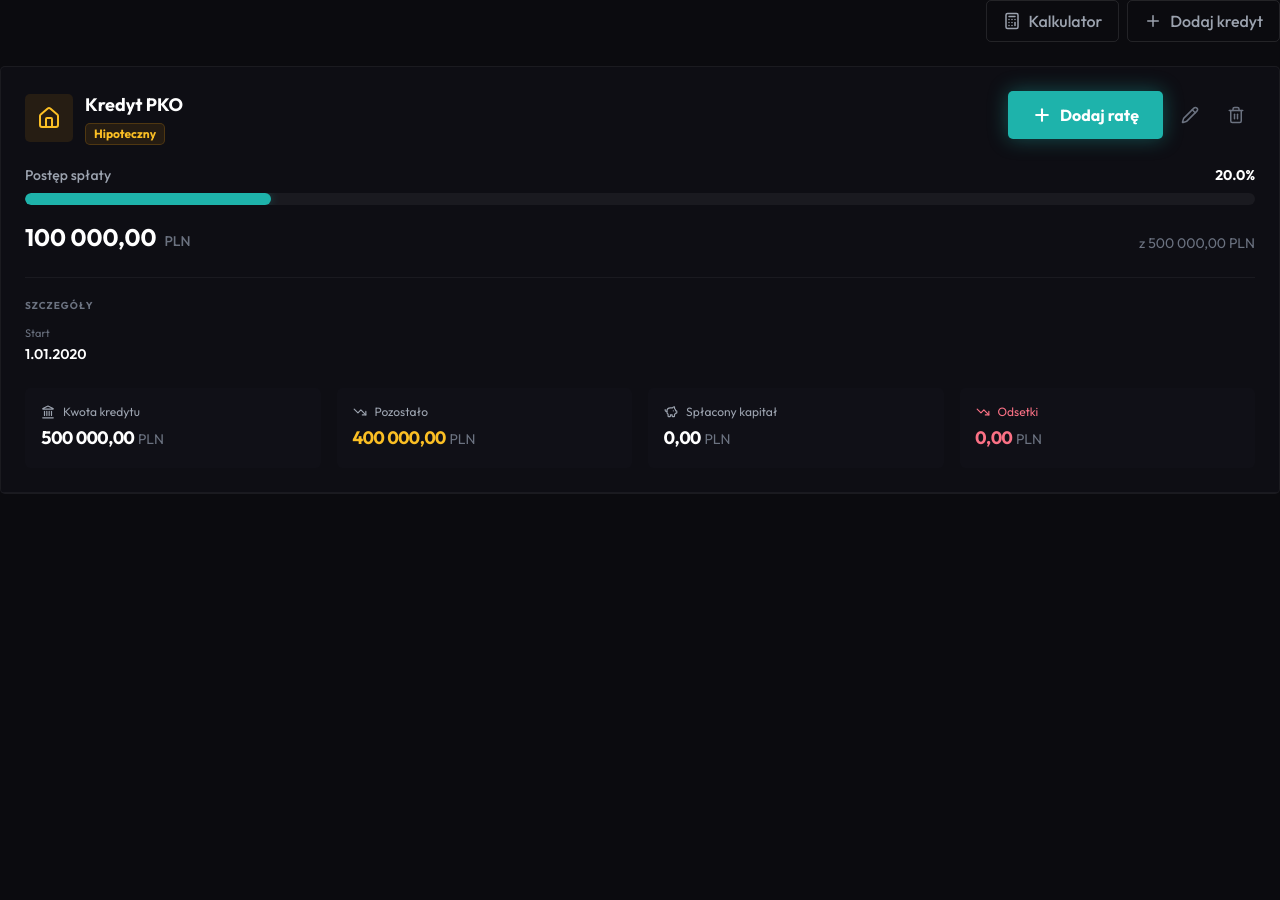
Test: Mortgage — handleAddPayment (walidacja B7) › kwoty niedodatnie → toast, brak POST
The width and height of the screenshot is (1280, 900).
Step 1. Click the button "Dodaj ratę" → (1086, 115), box [1008,91,1163,139]
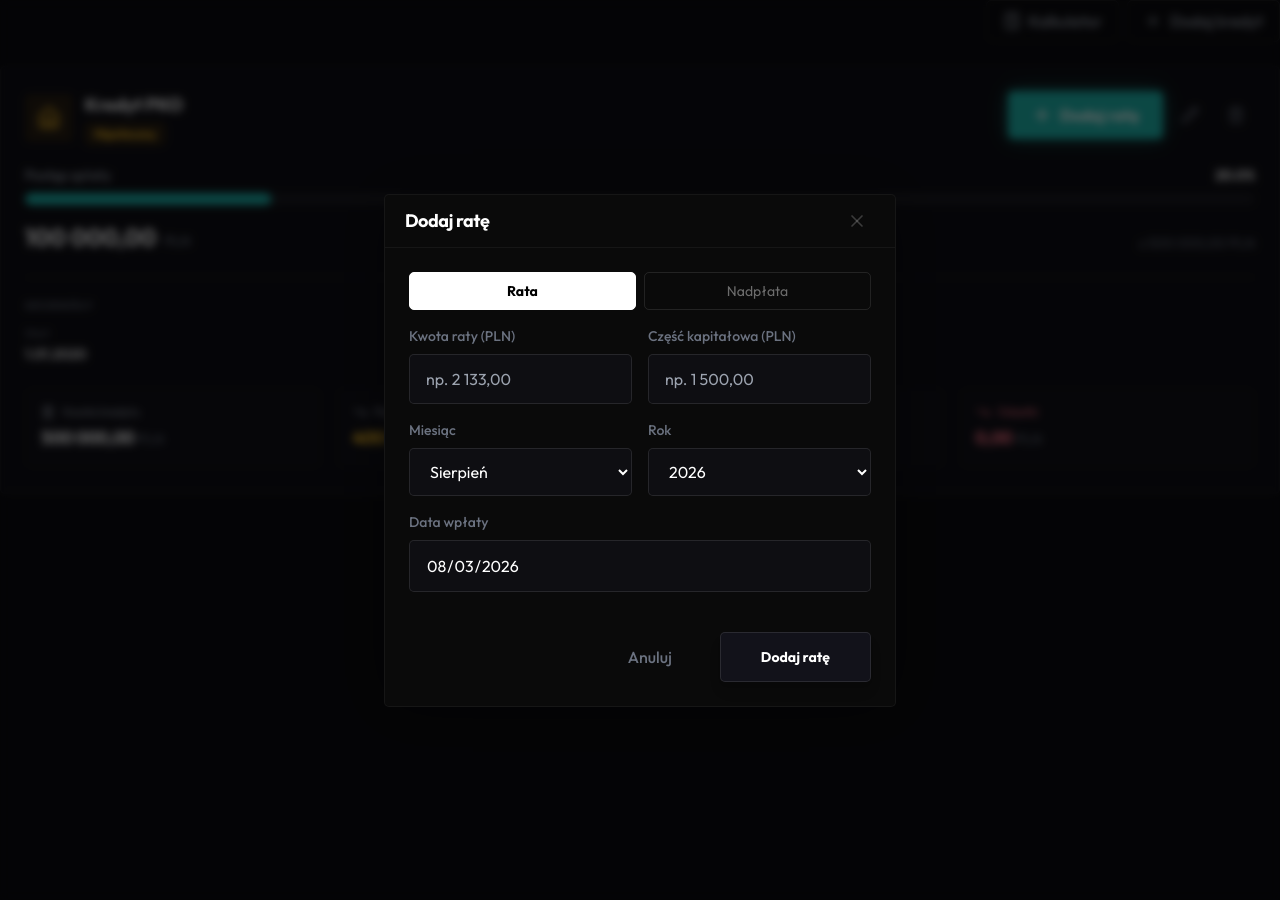
Result: the number field with placeholder "np. 2 133,00" is shown
Step 2. Type "0" into the number field with placeholder "np. 2 133,00" → (520, 378), box [409,354,632,404]
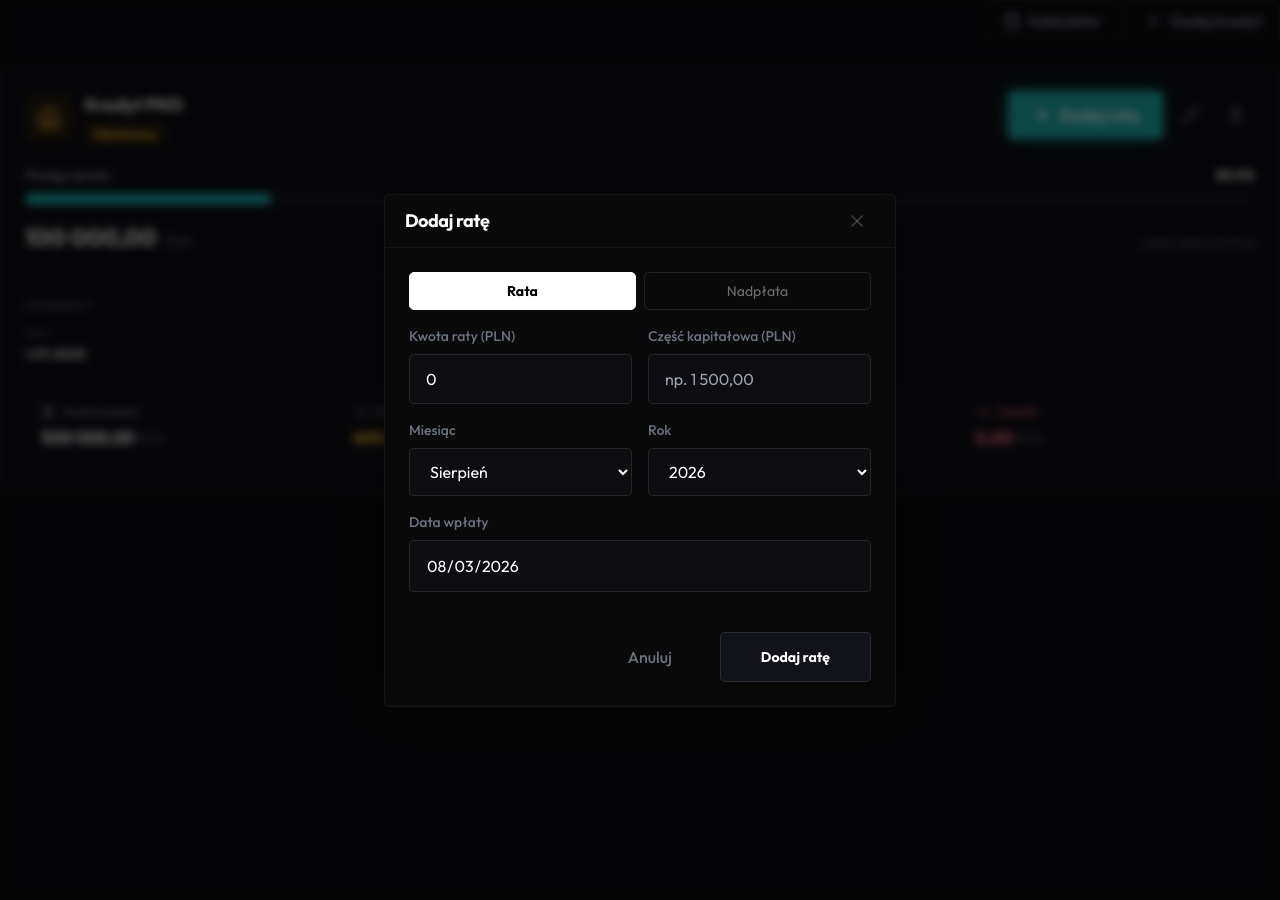
Step 3. Type "0" into the number field with placeholder "np. 1 500,00" → (760, 378), box [648,354,871,404]
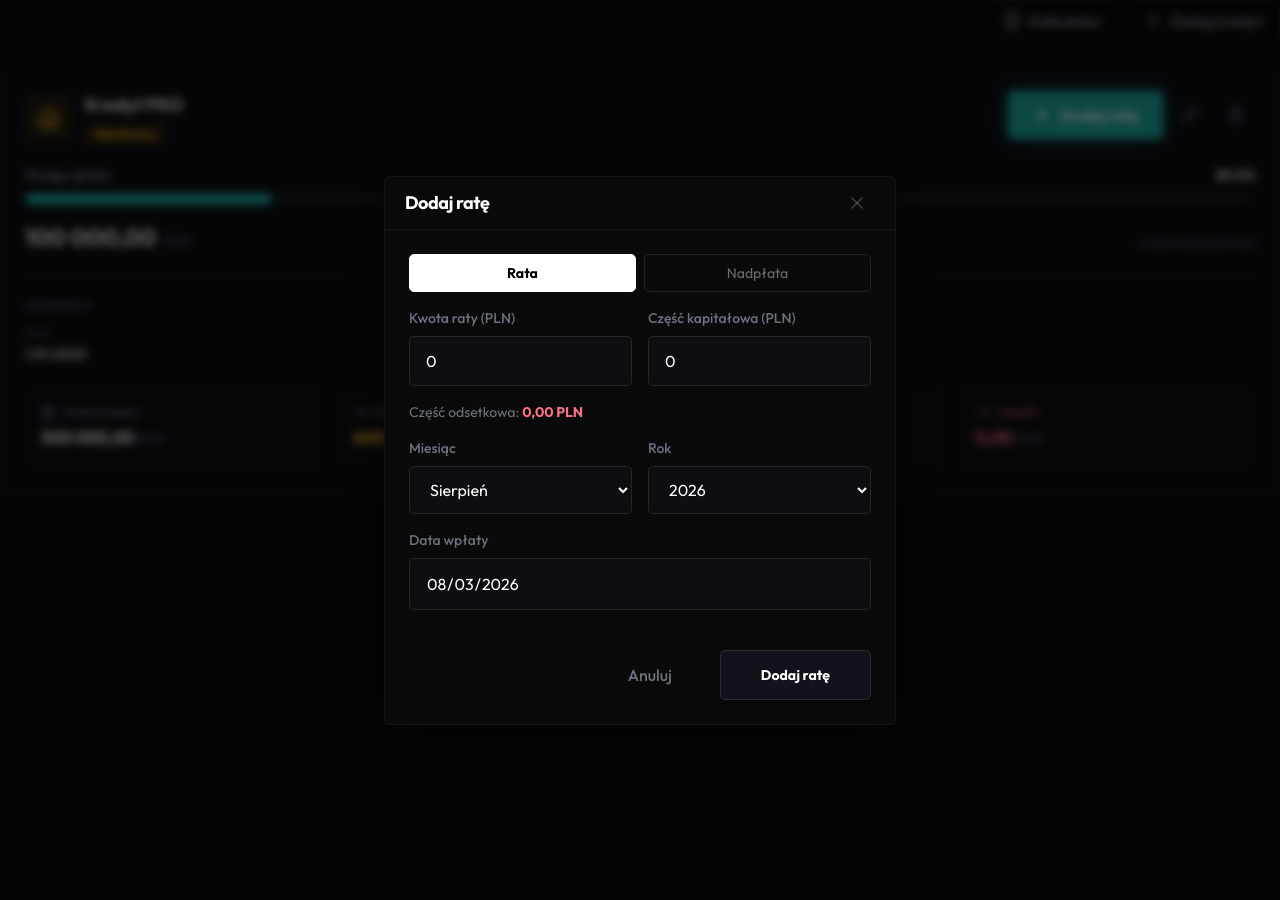
Step 4. Click the button "Dodaj ratę" → (795, 674), box [720,650,871,700]
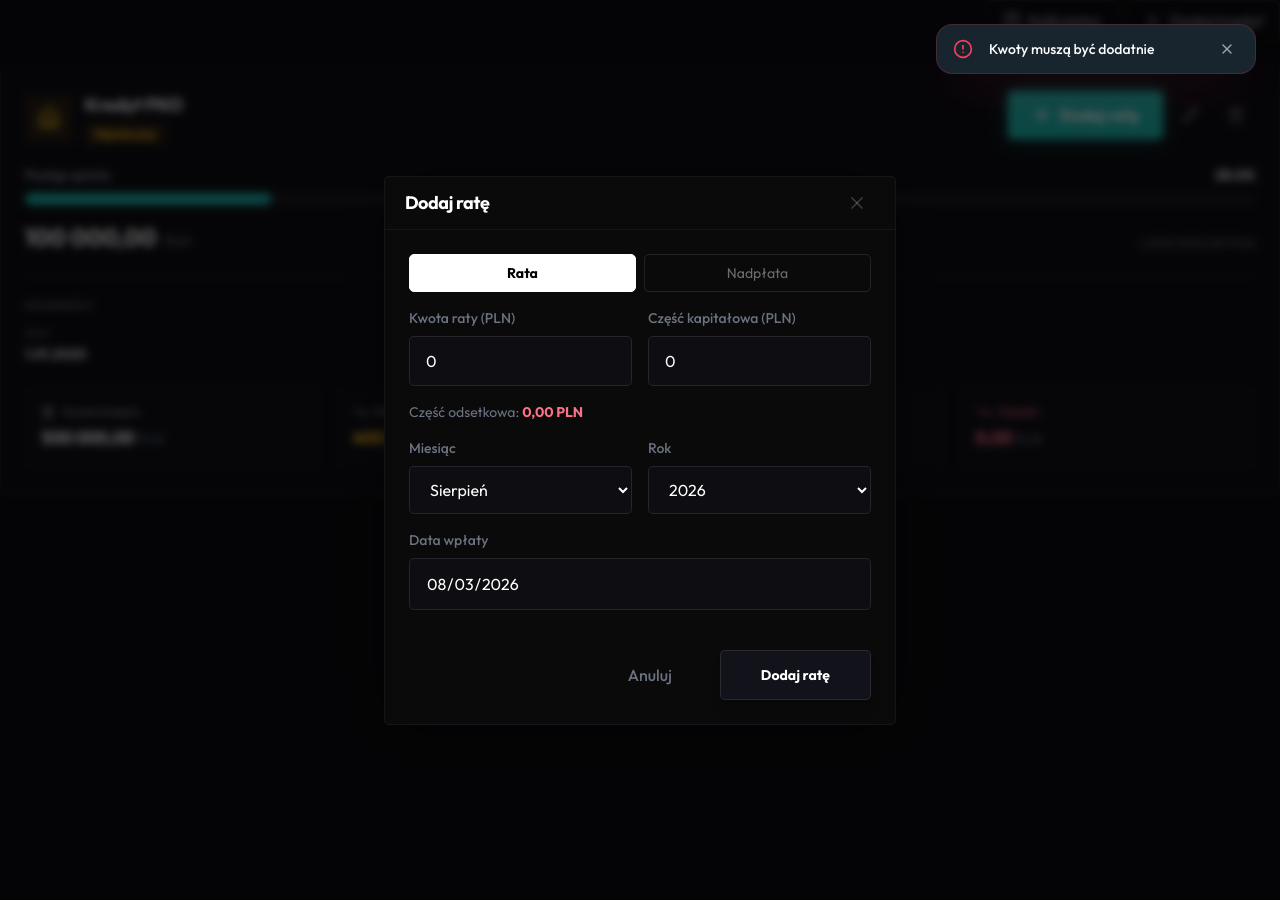
Result: the text "Kwoty muszą być dodatnie" is shown at [989,40,1154,58]
